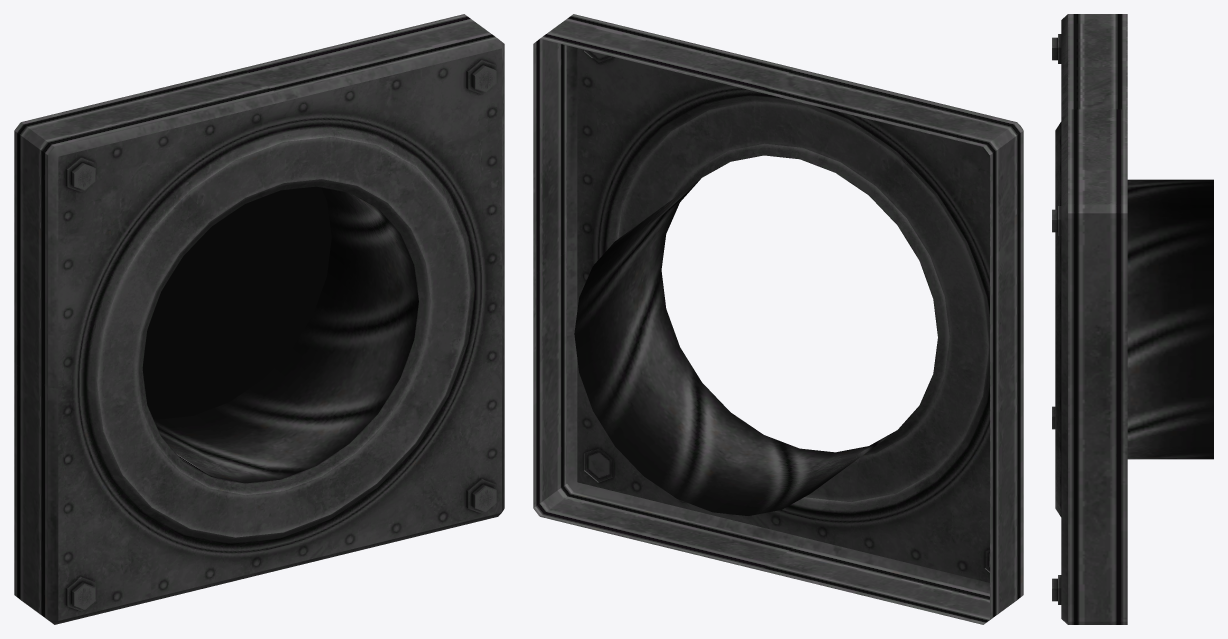
3 renders of one model, left to right at view 1: azimuth 30°, elevation 25°; view 2: azimuth 150°, elevation 25°; view 3: azimuth 270°, elevation 25°, orthographic. The views are drawn at different scales.
Parts seen in each view (by area): view 1: node_AllRoot__BodyMT_mesh_mesh0, node_AllRoot__HoleMT_mesh_mesh0; view 2: node_AllRoot__BodyMT_mesh_mesh0, node_AllRoot__HoleMT_mesh_mesh0; view 3: node_AllRoot__BodyMT_mesh_mesh0, node_AllRoot__HoleMT_mesh_mesh0.
Part boxes in pixels (left/top/right/bottom): node_AllRoot__BodyMT_mesh_mesh0: left=14, top=14, right=504, bottom=624; node_AllRoot__HoleMT_mesh_mesh0: left=142, top=186, right=418, bottom=483; node_AllRoot__BodyMT_mesh_mesh0: left=533, top=14, right=1023, bottom=624; node_AllRoot__HoleMT_mesh_mesh0: left=574, top=179, right=896, bottom=515; node_AllRoot__BodyMT_mesh_mesh0: left=1052, top=14, right=1127, bottom=624; node_AllRoot__HoleMT_mesh_mesh0: left=1127, top=179, right=1213, bottom=459.
Bounding box in the file's own units: 70000 × 70000 × 24400.
Materials: 2 (2 with a texture image).
